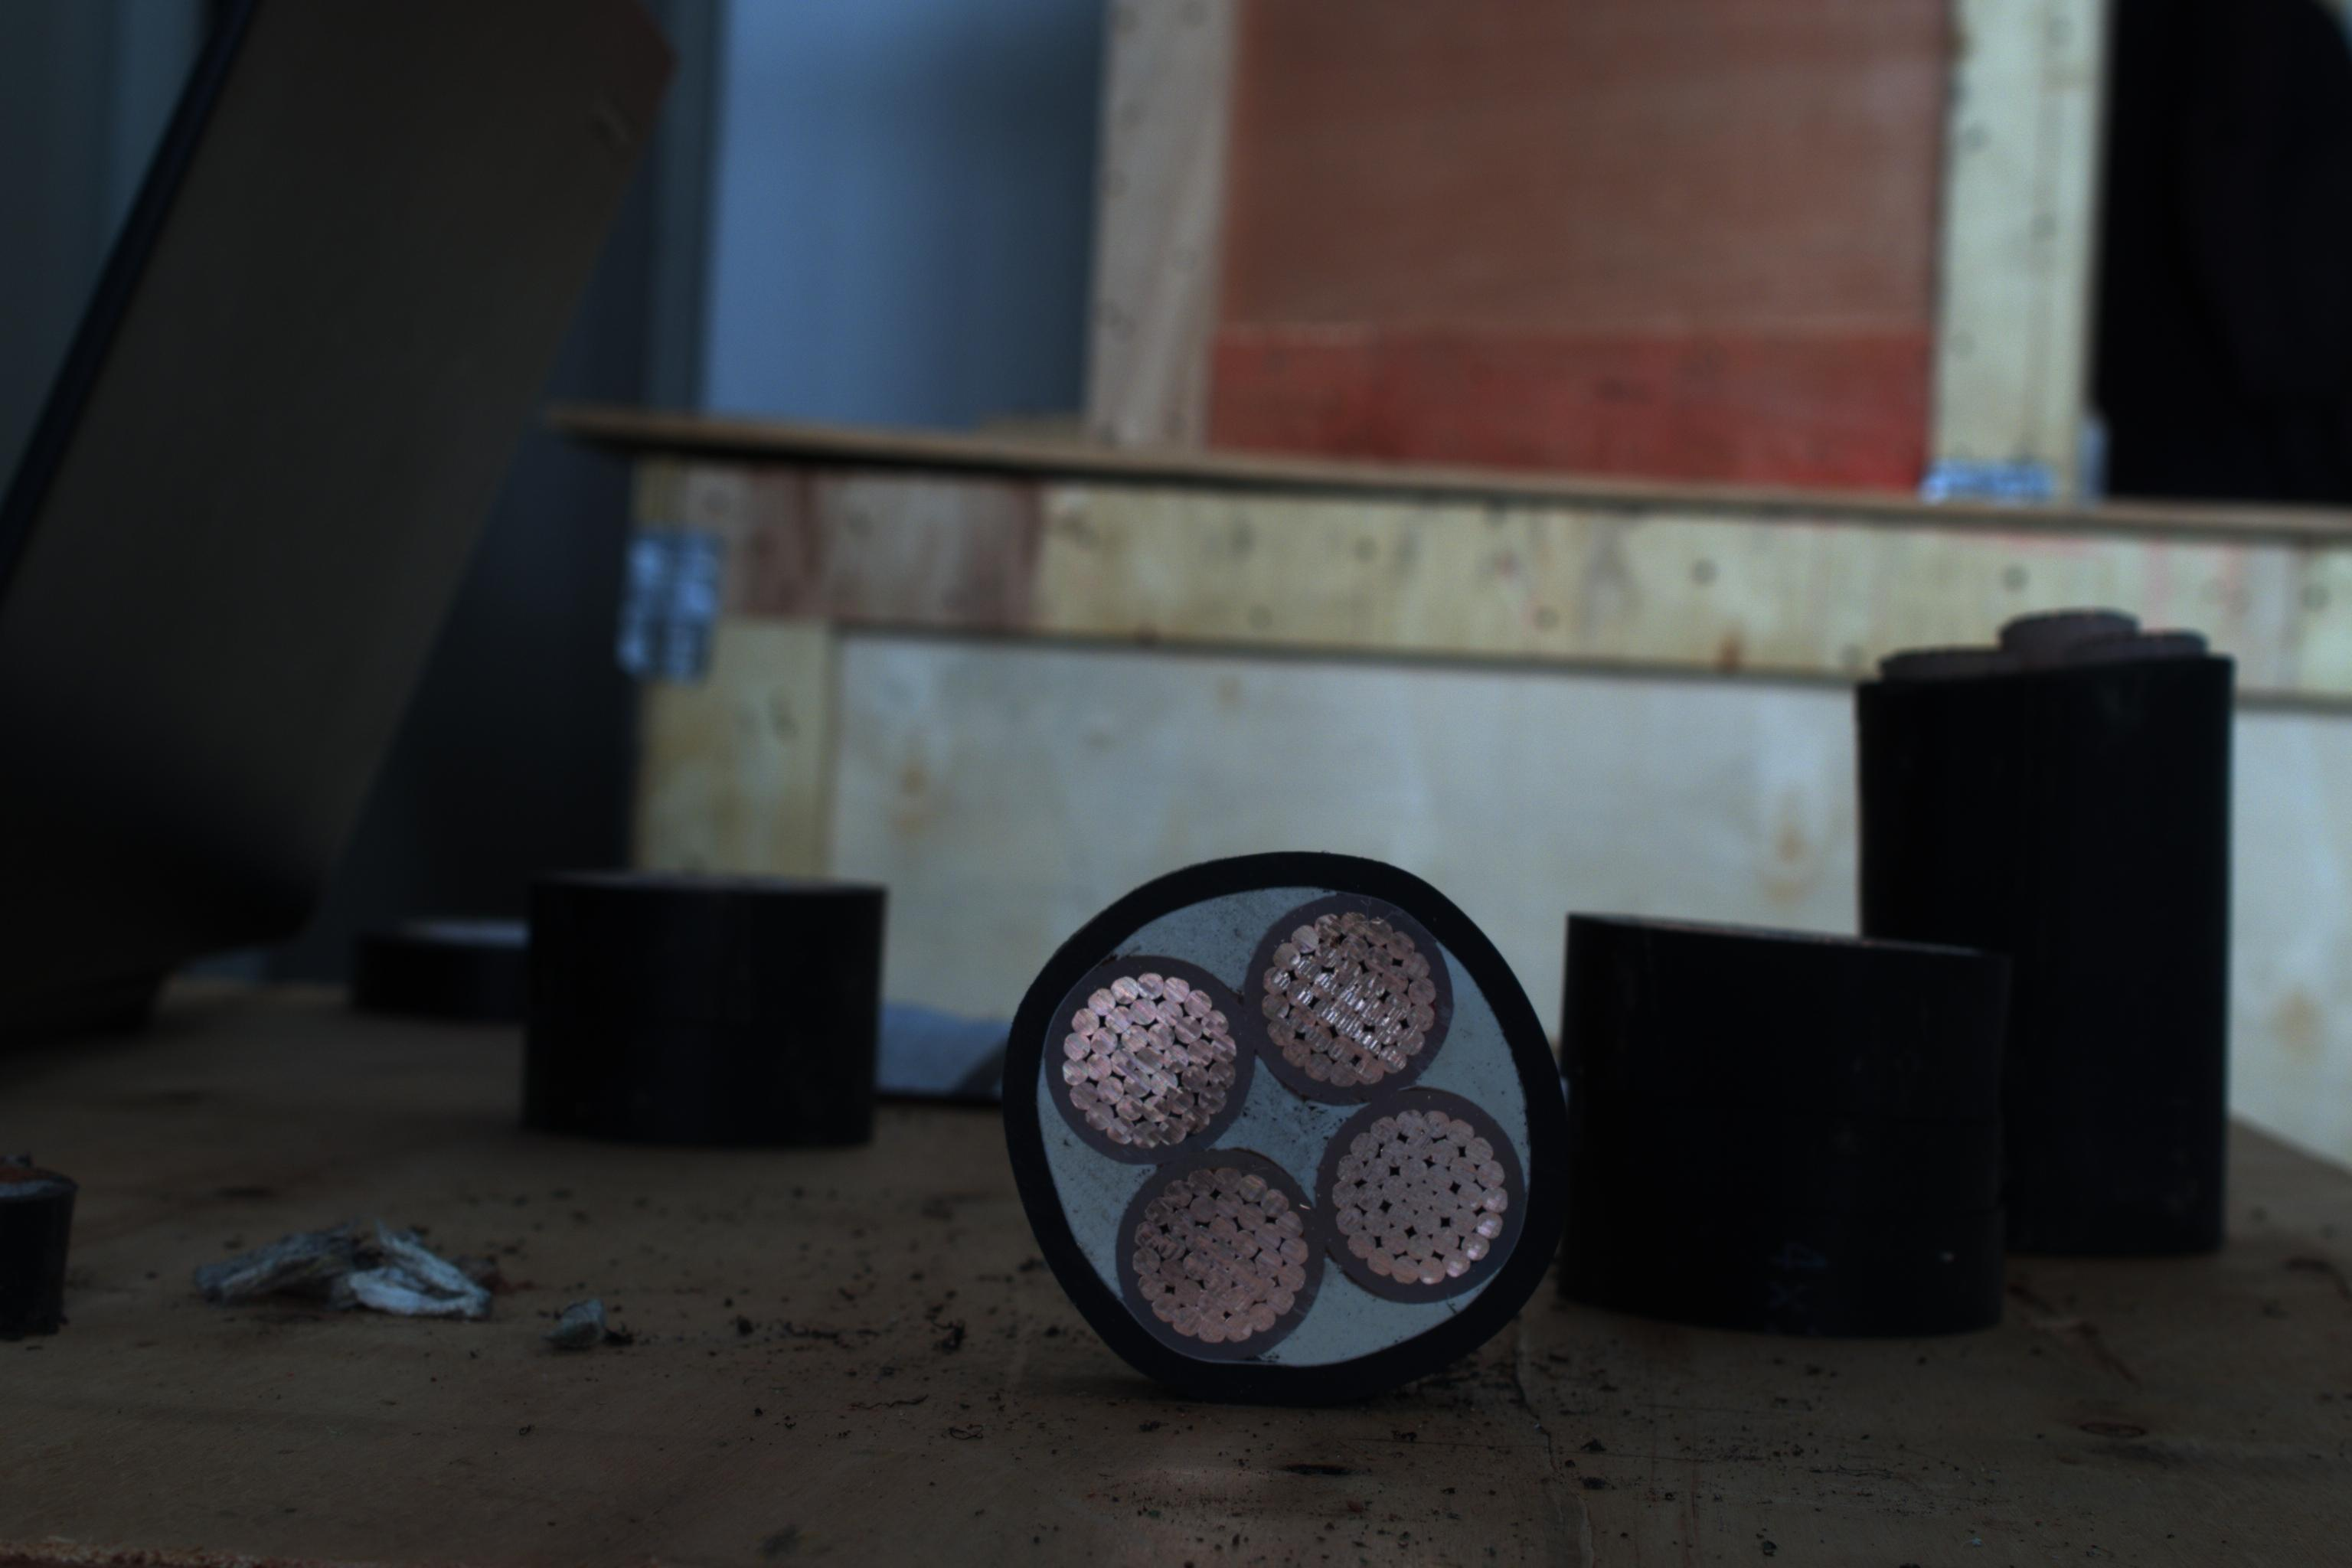YJV_0.6_1kV_4x240: (961, 854, 1559, 1377)
